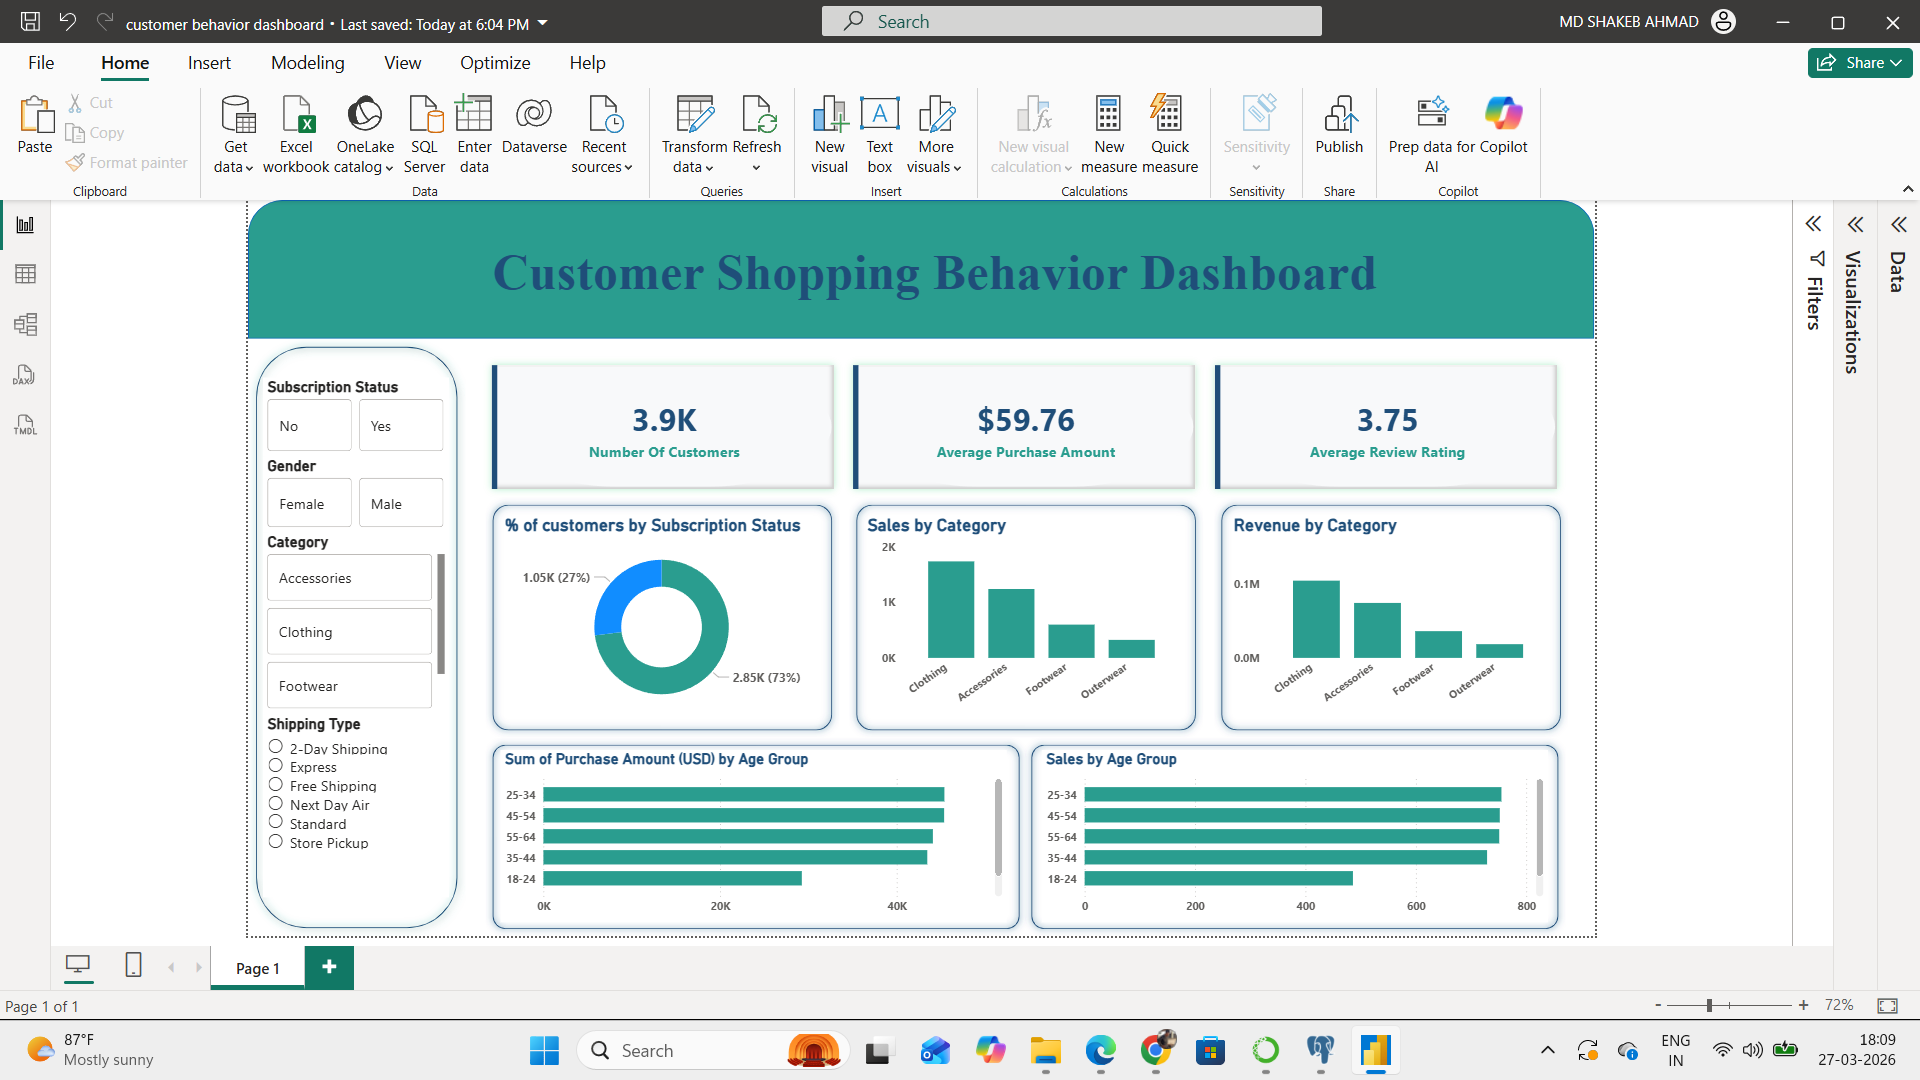

The dashboard page shown, as its layout file describes it:
{"tool":"powerbi","page":{"name":"Page 1","canvas":[1500,820],"ordinal":0},"visuals":[{"type":"cardVisual","fields":{"Data":["public customer.Number Of Customers","public customer.Average Purchase Amount","public customer.Average Review Rating"]},"box":[242.3,154.6,1247.8,196.4],"z":0},{"type":"shape","box":[0,0,1499.9,154.6],"z":1000},{"type":"textbox","box":[0,33.4,1499.9,121.2],"z":2000},{"type":"donutChart","title":"% of customers by Subscription Status","fields":{"Category":["public customer.Subscription Status"],"Y":["CountNonNull(public customer.Customer ID)"]},"box":[281.3,351,359.3,228.4],"z":3000},{"type":"clusteredColumnChart","title":"Revenue by Category","fields":{"Y":["Sum(public customer.Purchase Amount (USD))"],"Category":["public customer.Category"]},"box":[1093.2,351,362.1,228.4],"z":4000},{"type":"clusteredColumnChart","title":"Sales by Category","fields":{"Category":["public customer.Category"],"Y":["CountNonNull(public customer.Customer ID)"]},"box":[685.2,351,359.3,228.4],"z":5000},{"type":"shape","box":[264.6,331.5,394.1,267.4],"z":6000},{"type":"shape","box":[669.9,331.5,394.1,267.4],"z":7000},{"type":"shape","box":[1076.5,331.5,394.1,267.4],"z":8000},{"type":"shape","box":[0,154.6,242.3,665.7],"z":8001},{"type":"advancedSlicerVisual","fields":{"Values":["public customer.Subscription Status"]},"box":[16.7,197.8,207.5,87.7],"z":8002},{"type":"advancedSlicerVisual","fields":{"Values":["public customer.Gender"]},"box":[16.7,285.5,207.5,85],"z":8003},{"type":"advancedSlicerVisual","fields":{"Values":["public customer.Category"]},"box":[16.7,370.5,207.5,203.3],"z":8004},{"type":"listSlicer","fields":{"Values":["public customer.Shipping Type"]},"box":[16.7,573.8,207.5,203.3],"z":8005},{"type":"shape","box":[264.6,598.8,603,221.4],"z":8006},{"type":"clusteredBarChart","fields":{"Y":["Sum(public customer.Purchase Amount (USD))"],"Category":["public customer.Age Group"]},"box":[281.3,612.8,564,192.2],"z":8007},{"type":"shape","box":[864.8,598.8,603,221.4],"z":8008},{"type":"clusteredBarChart","title":"Sales by Age Group","fields":{"Y":["CountNonNull(public customer.Customer ID)"],"Category":["public customer.Age Group"]},"box":[884.3,612.8,564,192.2],"z":8009}]}

Visuals, with their boxes on the page's 1500x820 design canvas (x1, y1, x2, y2). These are canvas units, not pixel positions in the 1920x1080 screenshot, which may show the page scaled, cropped or inside an application window:
cardVisual - public customer.Number Of Customers x public customer.Average Purchase Amount: x1=242, y1=155, x2=1490, y2=351
shape: x1=0, y1=0, x2=1500, y2=155
textbox: x1=0, y1=33, x2=1500, y2=155
"% of customers by Subscription Status" donutChart: x1=281, y1=351, x2=641, y2=579
"Revenue by Category" clusteredColumnChart: x1=1093, y1=351, x2=1455, y2=579
"Sales by Category" clusteredColumnChart: x1=685, y1=351, x2=1044, y2=579
shape: x1=265, y1=332, x2=659, y2=599
shape: x1=670, y1=332, x2=1064, y2=599
shape: x1=1076, y1=332, x2=1471, y2=599
shape: x1=0, y1=155, x2=242, y2=820
advancedSlicerVisual - public customer.Subscription Status: x1=17, y1=198, x2=224, y2=286
advancedSlicerVisual - public customer.Gender: x1=17, y1=286, x2=224, y2=370
advancedSlicerVisual - public customer.Category: x1=17, y1=370, x2=224, y2=574
listSlicer - public customer.Shipping Type: x1=17, y1=574, x2=224, y2=777
shape: x1=265, y1=599, x2=868, y2=820
clusteredBarChart - Sum(public customer.Purchase Amount (USD)) x public customer.Age Group: x1=281, y1=613, x2=845, y2=805
shape: x1=865, y1=599, x2=1468, y2=820
"Sales by Age Group" clusteredBarChart: x1=884, y1=613, x2=1448, y2=805
